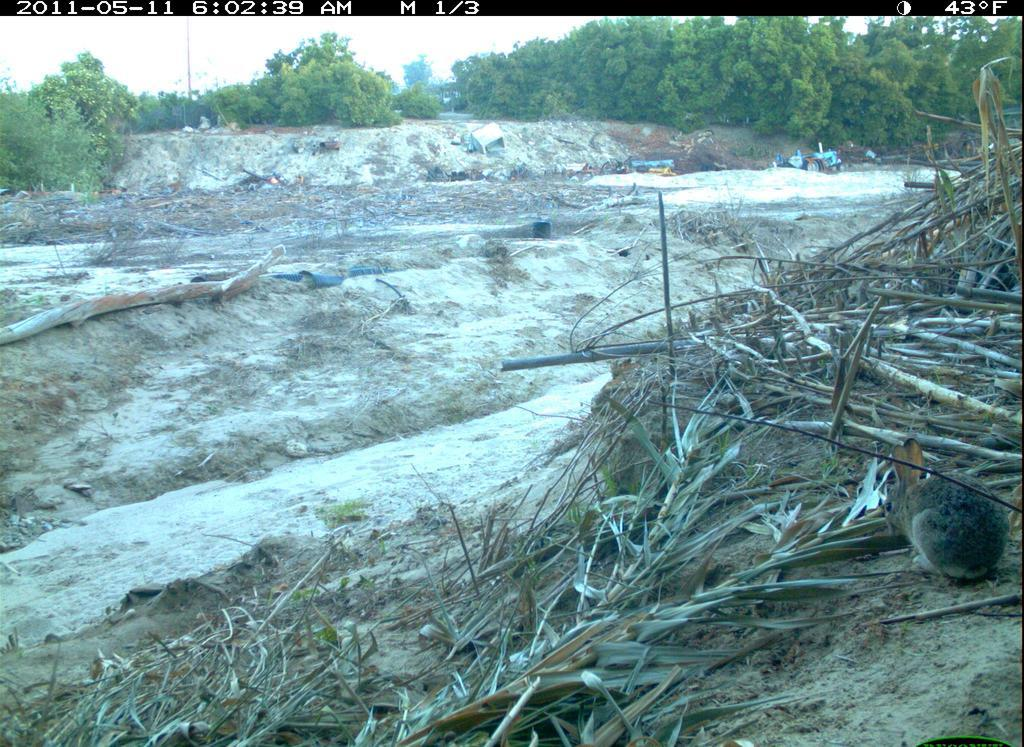rabbit: (872, 432, 1017, 589)
